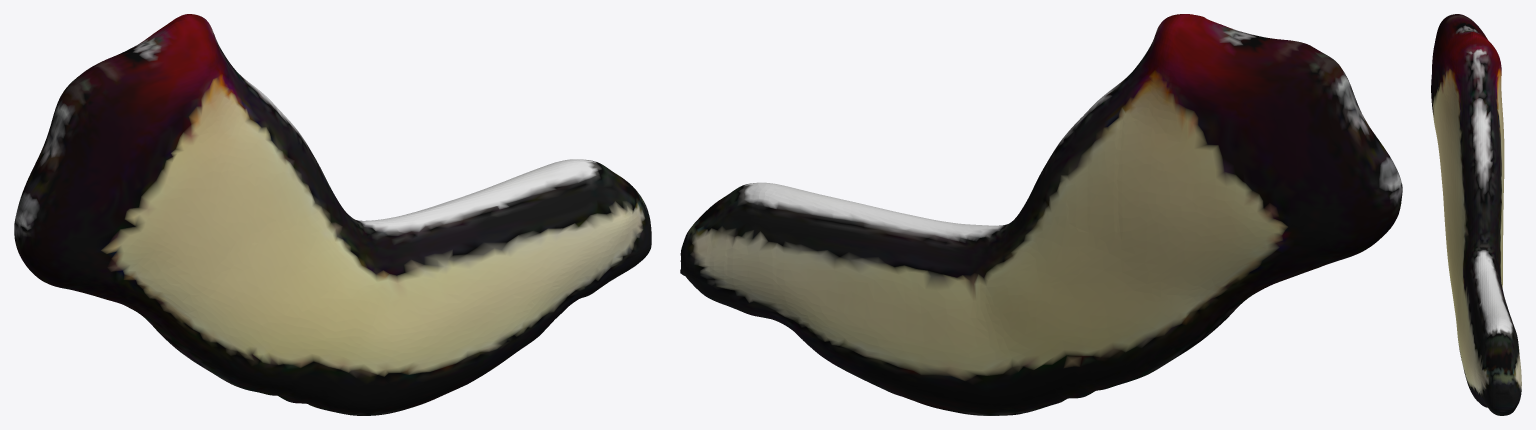
The model's file is arm.glb.
3 renders of one model, left to right at view 1: azimuth 30°, elevation 25°; view 2: azimuth 150°, elevation 25°; view 3: azimuth 270°, elevation 25°, orthographic. The views are drawn at different scales.
Visible parts, largest first — view 1: geometry_0; view 2: geometry_0; view 3: geometry_0.
Part boxes in pixels (box(x1,y1,x2,y2)): geometry_0: box(14, 14, 651, 415); geometry_0: box(680, 14, 1402, 415); geometry_0: box(1431, 14, 1521, 415).
Bounding box in the file's own units: 0.4688 × 0.2981 × 0.0864.
